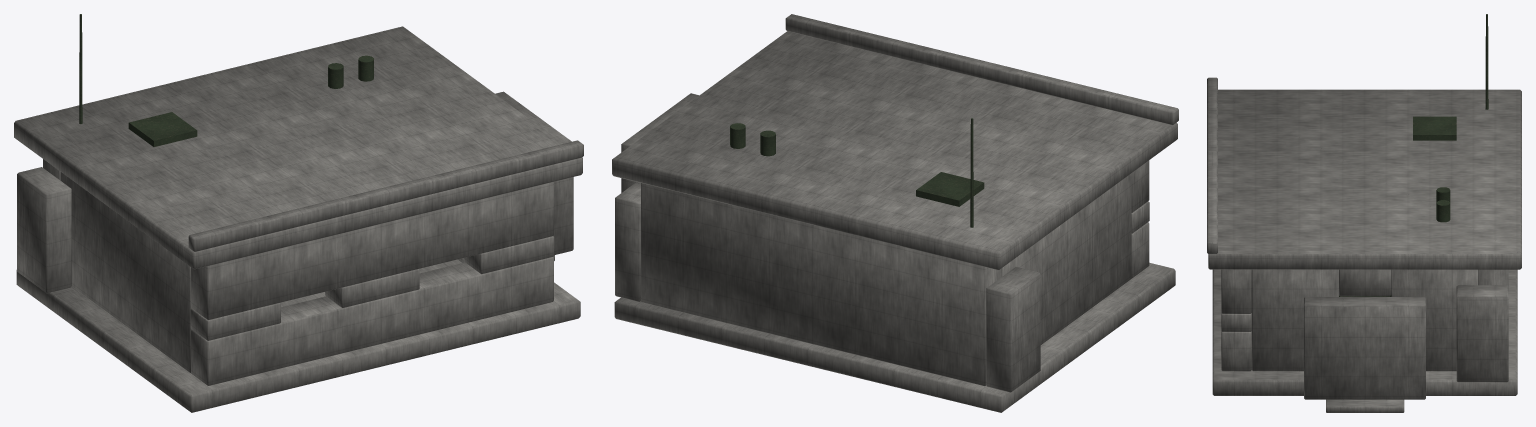
The model's file is SM_Bunker_Enemigo_Intacto.fbx.
3 views of the same model, side by side, from view 1: azimuth 30°, elevation 25°; view 2: azimuth 150°, elevation 25°; view 3: azimuth 270°, elevation 25° (orthographic). The views are drawn at different scales.
Visible parts, largest first — view 1: SM_Bunker_Enemigo_Intacto; view 2: SM_Bunker_Enemigo_Intacto; view 3: SM_Bunker_Enemigo_Intacto.
Part boxes in pixels (<box>): SM_Bunker_Enemigo_Intacto: <box>14,14,583,412</box>; SM_Bunker_Enemigo_Intacto: <box>612,14,1178,412</box>; SM_Bunker_Enemigo_Intacto: <box>1207,14,1521,412</box>.
Size of what is drawn, in the model's own units: 10.15 by 7.23 by 6.
